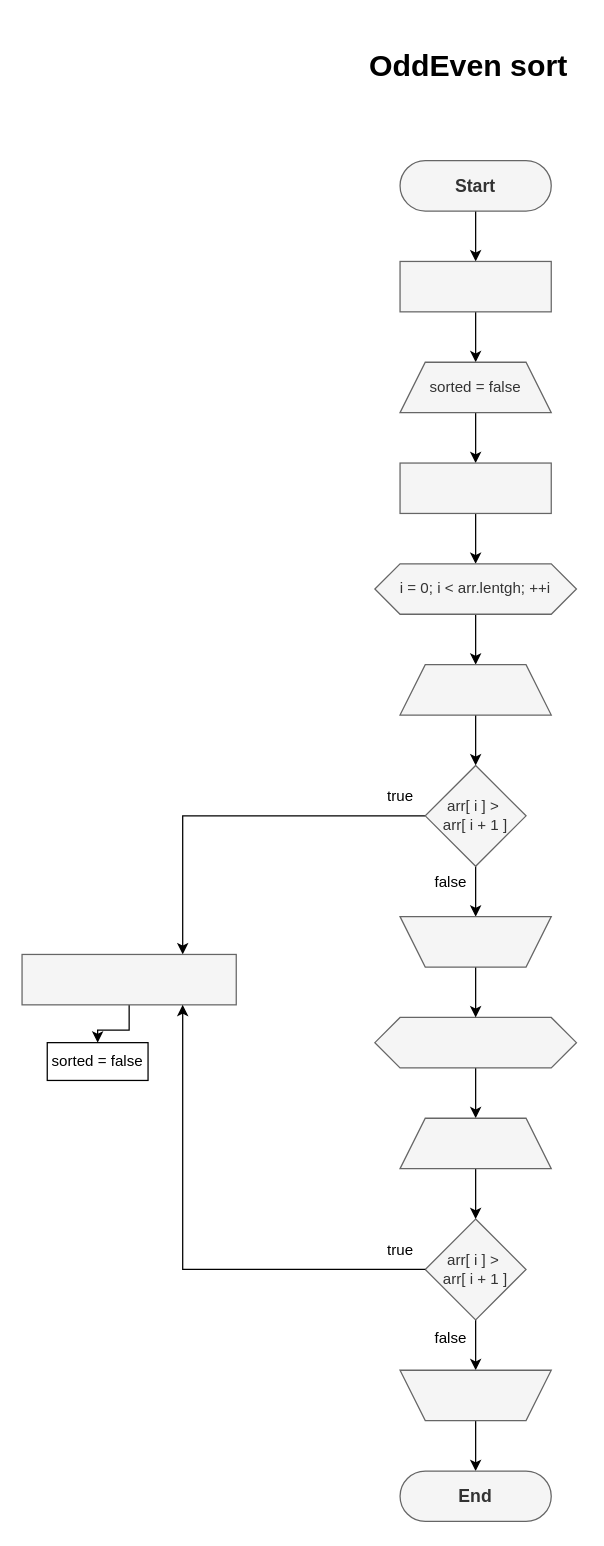
This 604x1546 diagram has some shape labels left out. The shapes that lost their labels are listed below. From the top down, each one's centre as x and y in pixels, then its label:
At (x=475, y=286): "init sorted = false".
At (x=475, y=487): "sorted = true".
At (x=128, y=979): "swap arr[ i ] and arr[ i + 1 ]".
At (x=475, y=1042): "i = 1; i < arr.lentgh - 1; ++i".
